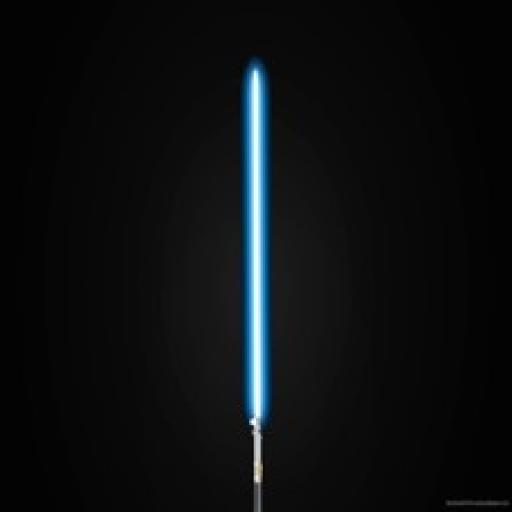lightsaber: (238, 60, 274, 511)
